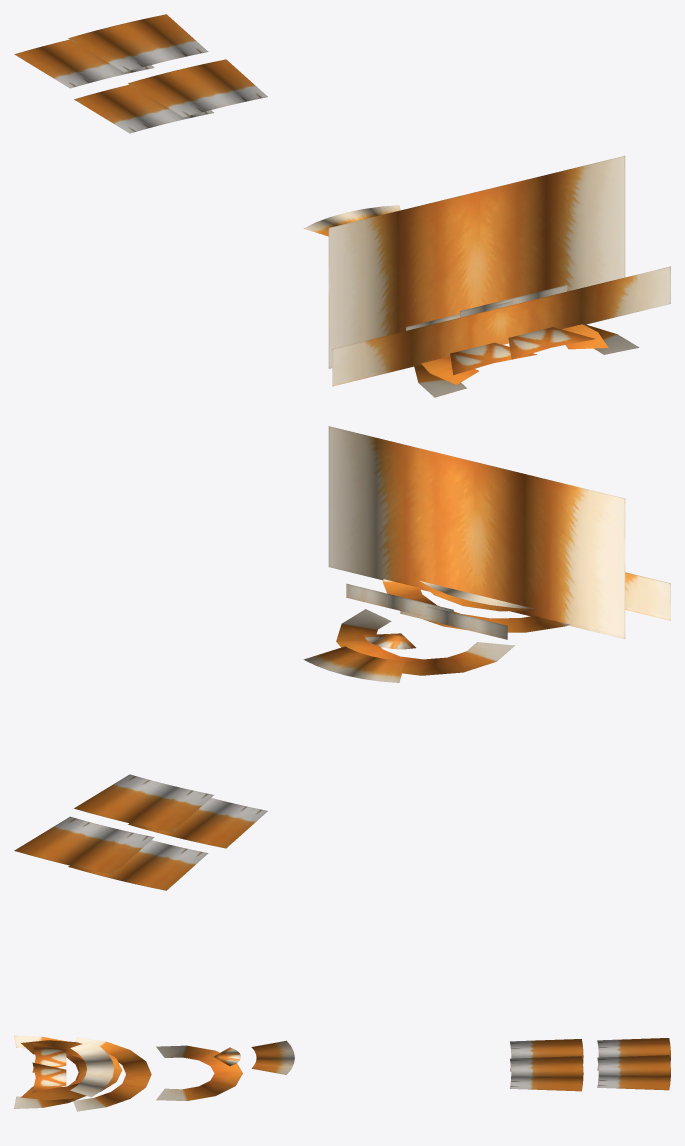
The model's file is dog_fold.glb.
The picture shows the model from 3 angles, top to bottom: view 1: azimuth 30°, elevation 25°; view 2: azimuth 150°, elevation 25°; view 3: azimuth 270°, elevation 25°; orthographic projection. The views are drawn at different scales.
Parts seen in each view (by area): view 1: GEO-dog; view 2: GEO-dog; view 3: GEO-dog.
Boxes of the visible parts, x1,y1,x2,y2 form: GEO-dog: (14,14,670,397); GEO-dog: (14,426,670,890); GEO-dog: (14,1035,670,1111).
Size of the model in its own units: 0.754 by 0.3 by 1.73.
Materials: 1 (1 with a texture image).
